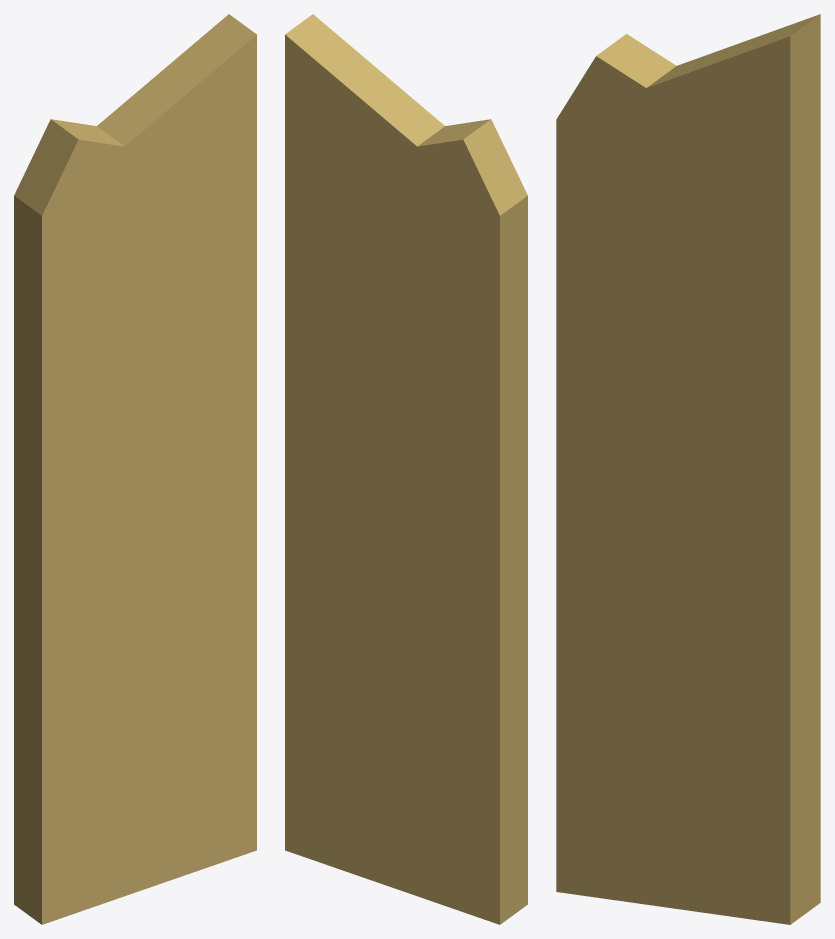
Rendered from OB_Desk.fbx.
3 renders of one model, left to right at view 1: azimuth 30°, elevation 25°; view 2: azimuth 150°, elevation 25°; view 3: azimuth 330°, elevation 25°, orthographic. The views are drawn at different scales.
Visible parts, largest first — view 1: OB_Desk; view 2: OB_Desk; view 3: OB_Desk.
Part boxes in pixels (<box>): OB_Desk: <box>14,14,256,924</box>; OB_Desk: <box>285,14,527,924</box>; OB_Desk: <box>556,14,820,924</box>.
Bounding box in the file's own units: 37.9 × 141 × 8.53.
